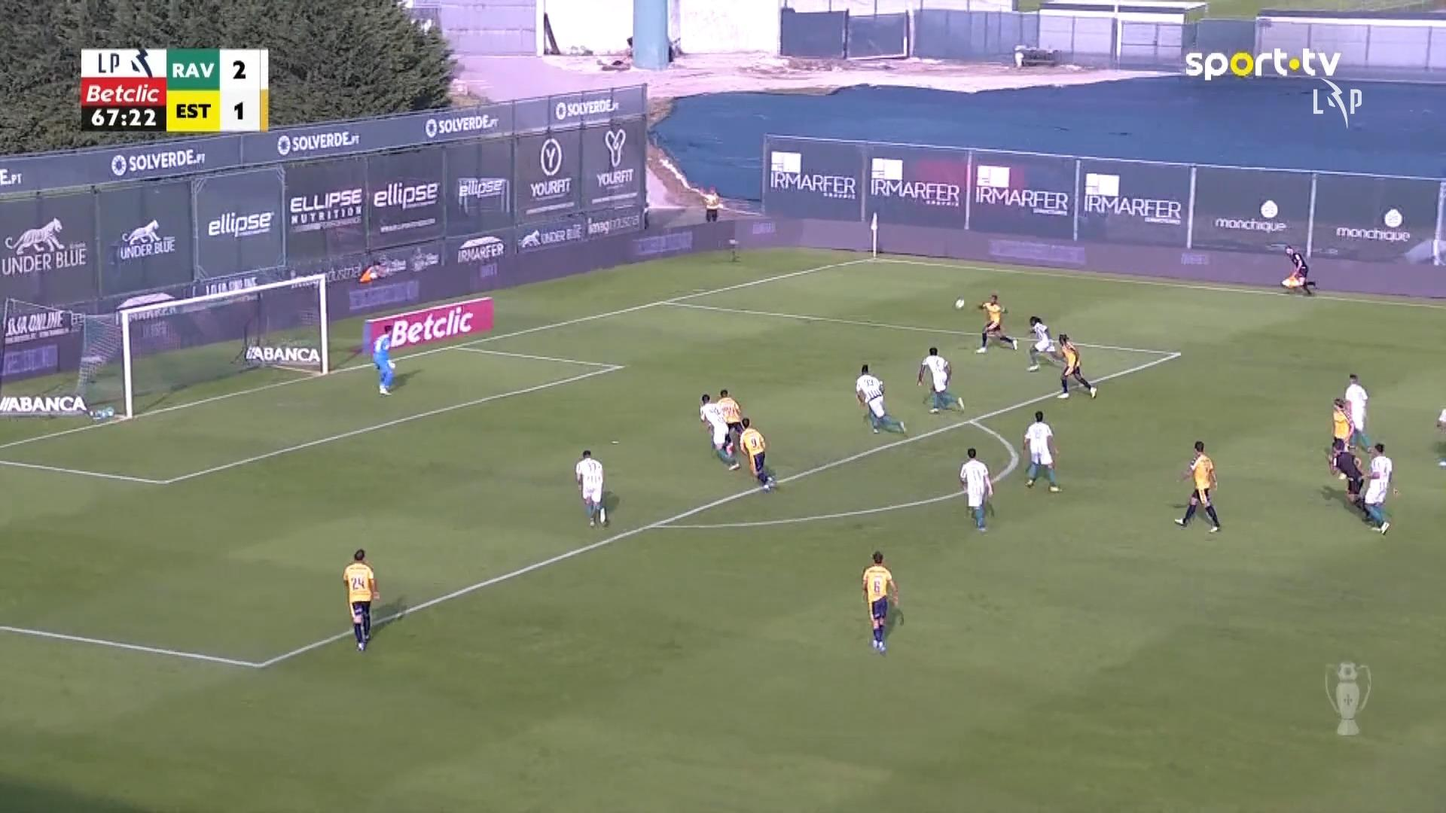ball: (953, 297, 964, 309)
goalkeeper: (371, 324, 396, 395)
player: (1173, 440, 1221, 532), (860, 550, 898, 653), (342, 547, 379, 651), (854, 363, 906, 435), (1022, 410, 1062, 492), (698, 392, 740, 470), (916, 346, 964, 413), (959, 446, 994, 531), (1362, 442, 1394, 534), (739, 416, 777, 492), (1054, 332, 1097, 399), (574, 449, 609, 527), (975, 292, 1017, 353), (1025, 315, 1063, 371), (1343, 372, 1369, 452), (715, 388, 743, 452), (1329, 396, 1353, 452), (1434, 406, 1445, 467)
referee: (1326, 438, 1368, 516), (1280, 243, 1314, 295)
